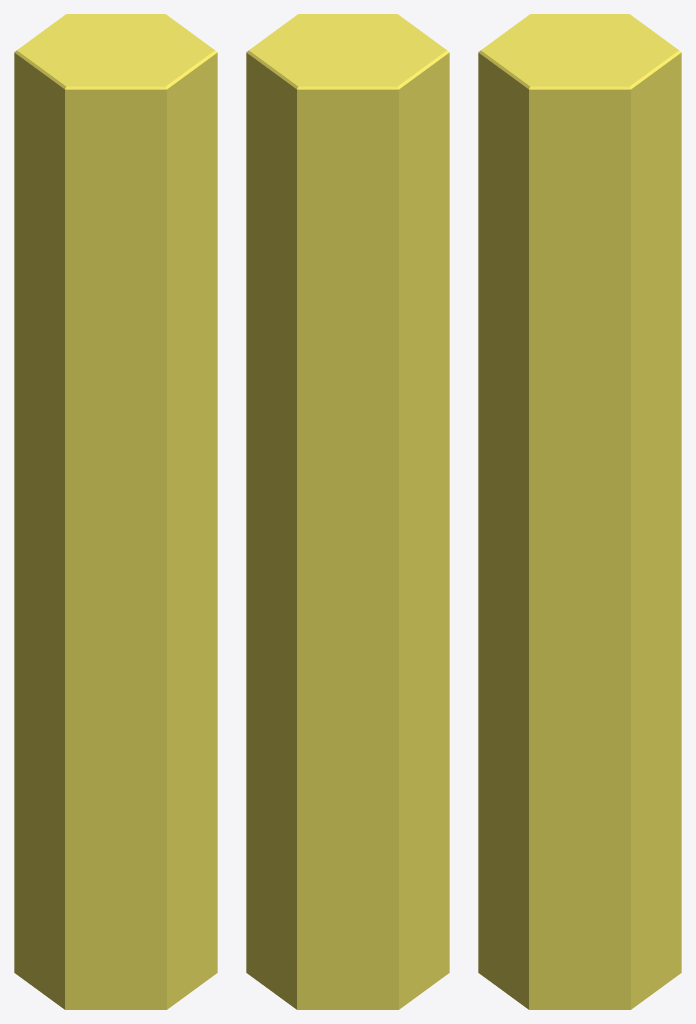
File: hex_sand_plain.glb
The picture shows the model from 3 angles, left to right: view 1: azimuth 30°, elevation 25°; view 2: azimuth 150°, elevation 25°; view 3: azimuth 270°, elevation 25°; orthographic projection.
Parts seen in each view (by area): view 1: Hex; view 2: Hex; view 3: Hex.
Boxes of the visible parts, <box> form: Hex: <box>14,14,217,1009</box>; Hex: <box>246,14,449,1009</box>; Hex: <box>478,14,681,1009</box>.
Bounding box in the file's own units: 1.73 × 10 × 2.
